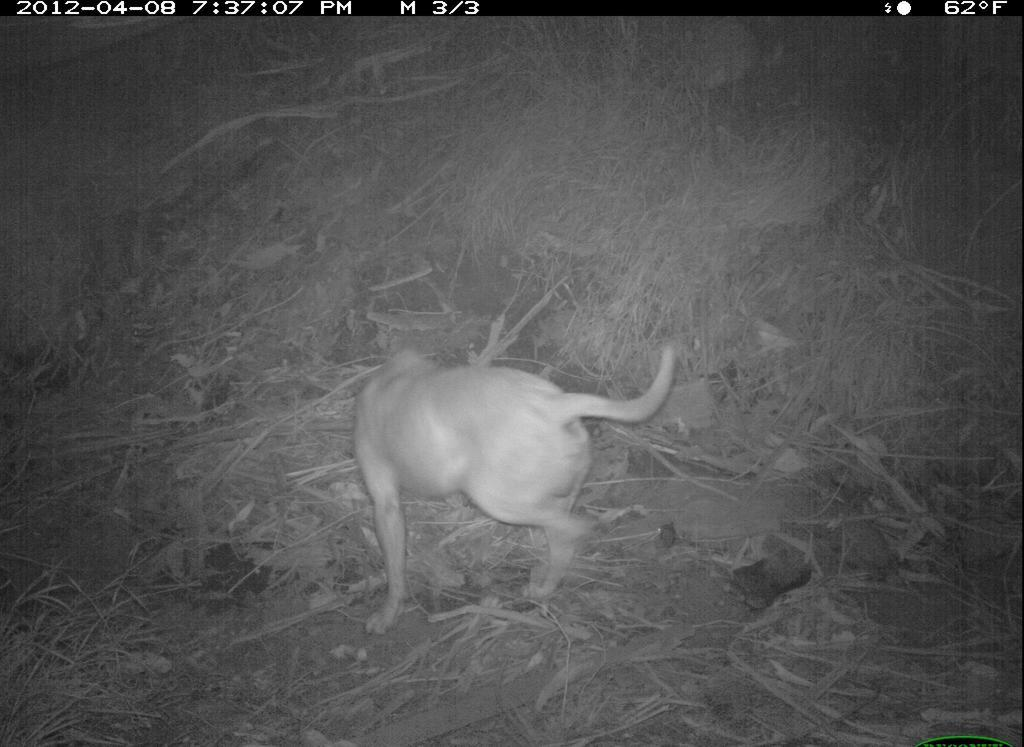dog: (345, 319, 683, 634)
